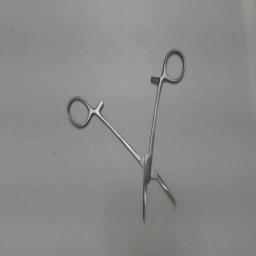Crile Artery Forceps: (65, 44, 189, 226)
